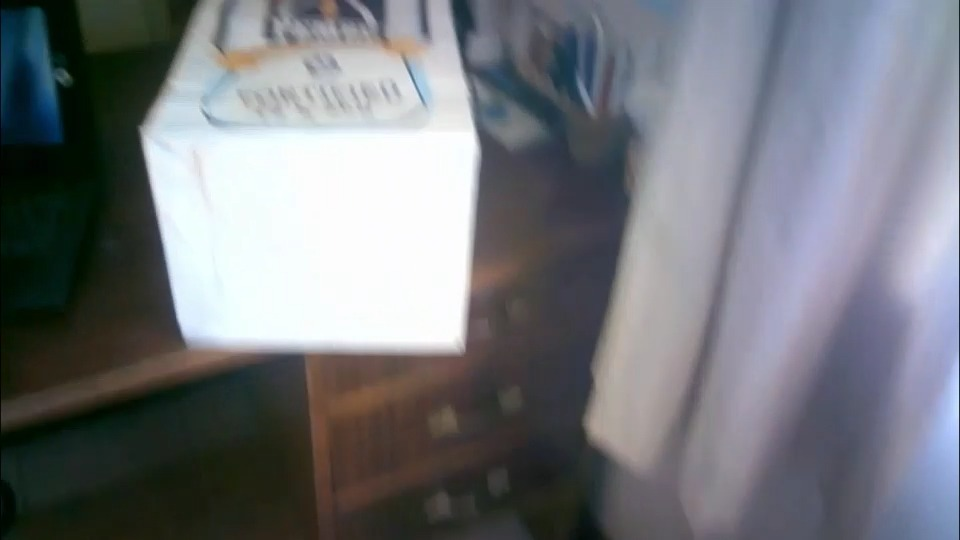wheat_flour_blue_label: (144, 2, 473, 354)
